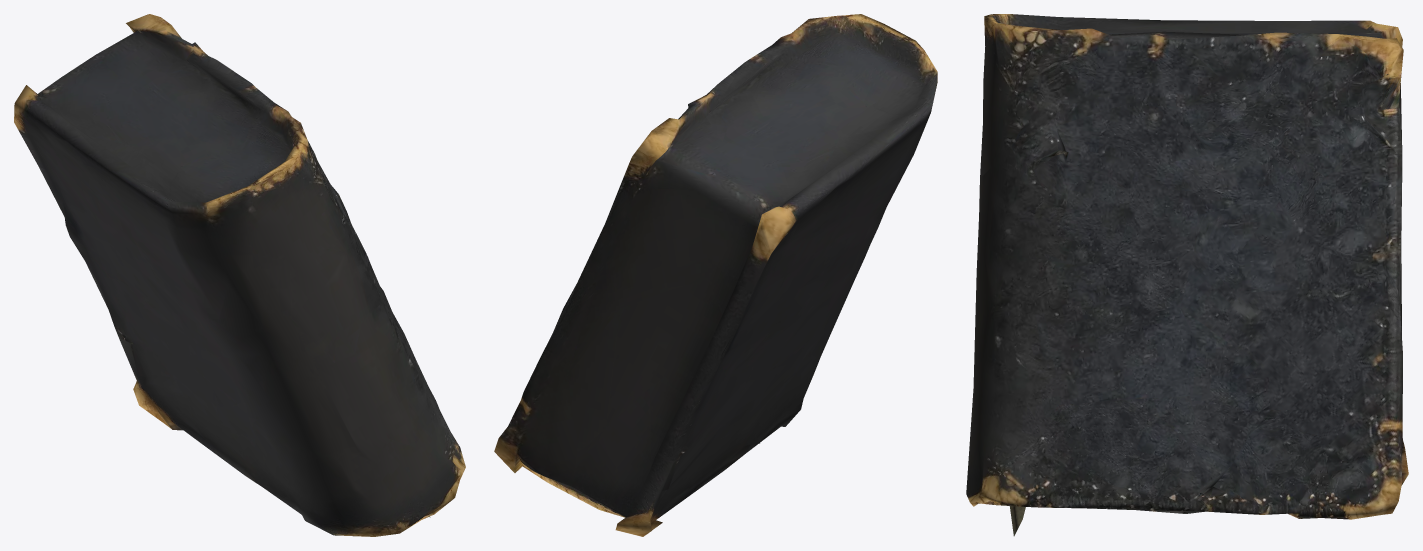
Rendered from ledger.glb.
3 views of the same model, side by side, from view 1: azimuth 30°, elevation 25°; view 2: azimuth 150°, elevation 25°; view 3: azimuth 270°, elevation 25° (orthographic). The views are drawn at different scales.
Parts seen in each view (by area): view 1: tripo_node_998395ca-4ce4-4960-a680-e84d3c4b3e77; view 2: tripo_node_998395ca-4ce4-4960-a680-e84d3c4b3e77; view 3: tripo_node_998395ca-4ce4-4960-a680-e84d3c4b3e77.
Part boxes in pixels (x1=…): tripo_node_998395ca-4ce4-4960-a680-e84d3c4b3e77: x1=14, y1=14, x2=465, y2=536; tripo_node_998395ca-4ce4-4960-a680-e84d3c4b3e77: x1=494, y1=14, x2=937, y2=536; tripo_node_998395ca-4ce4-4960-a680-e84d3c4b3e77: x1=966, y1=14, x2=1408, y2=536.
Size of the model in its own units: 0.7421 by 1 by 0.8872.
1 material, 1 textured.
